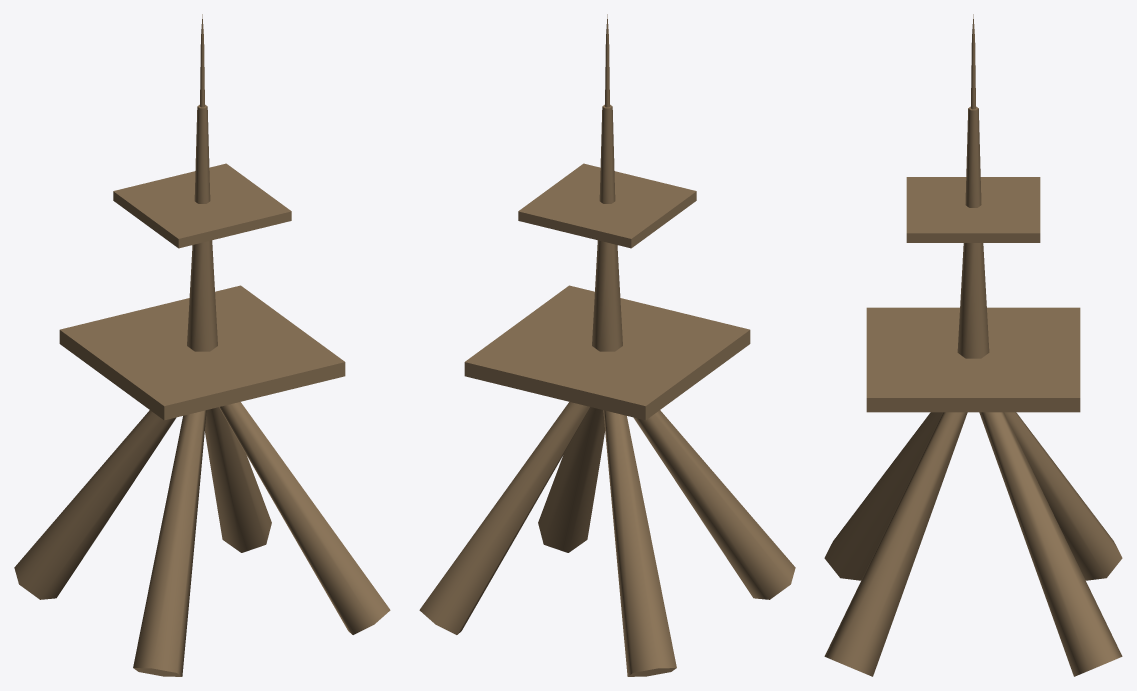
The model's file is eiffel-tower.glb.
The picture shows the model from 3 angles, left to right: view 1: azimuth 30°, elevation 25°; view 2: azimuth 150°, elevation 25°; view 3: azimuth 270°, elevation 25°; orthographic projection. The views are drawn at different scales.
Size of the model in its own units: 55.84 by 127 by 55.84.
